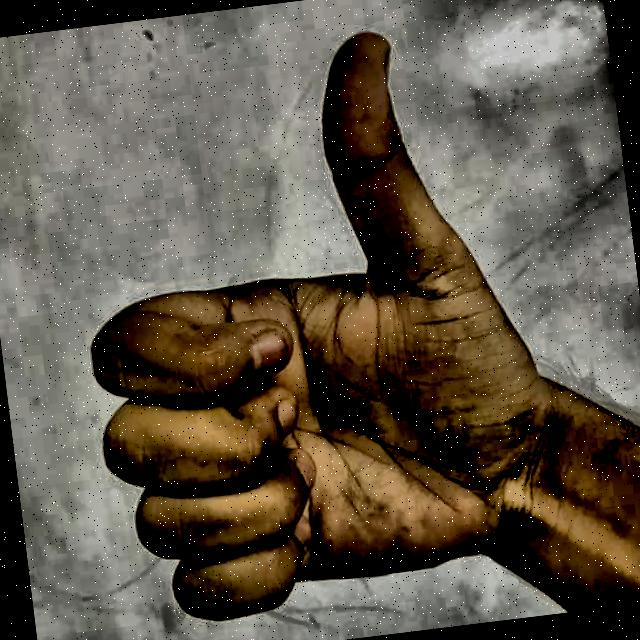Do: (32, 0, 573, 640)
